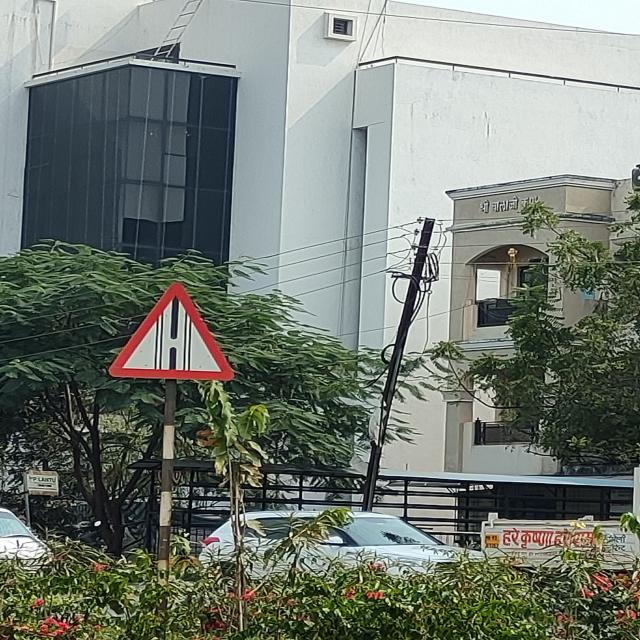GAP_IN_MEDIAN: (108, 280, 234, 384)
